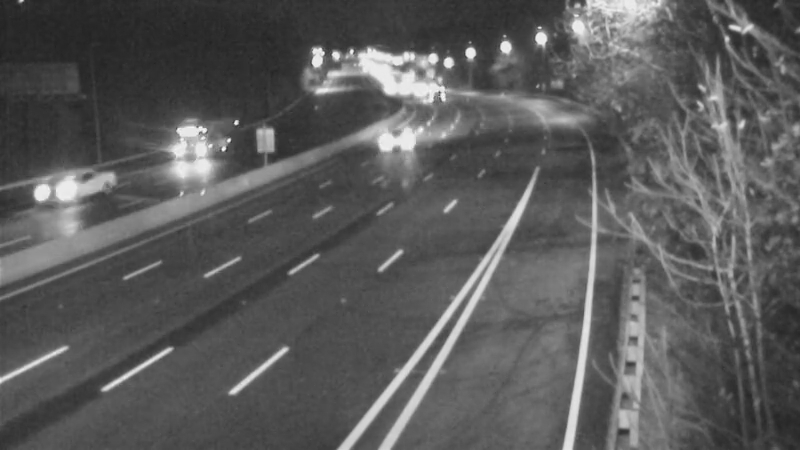vehicle: (19, 152, 99, 232), (413, 70, 463, 120), (373, 119, 423, 169), (176, 121, 226, 171)
